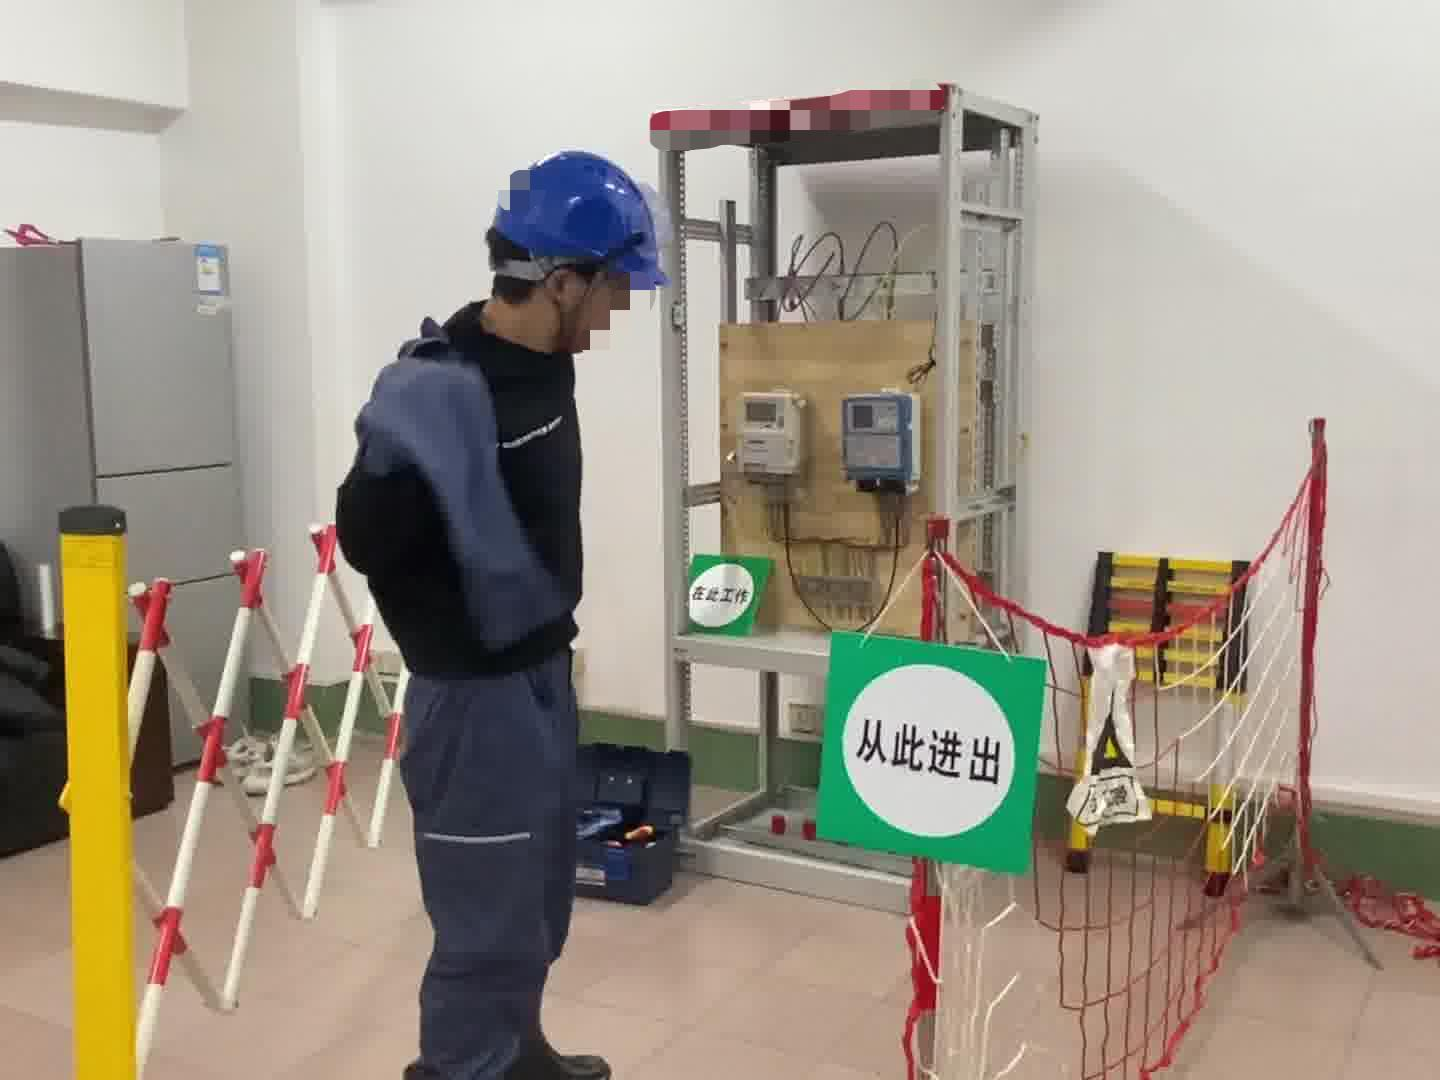halt: (481, 152, 672, 360)
inear: (537, 258, 600, 328)
